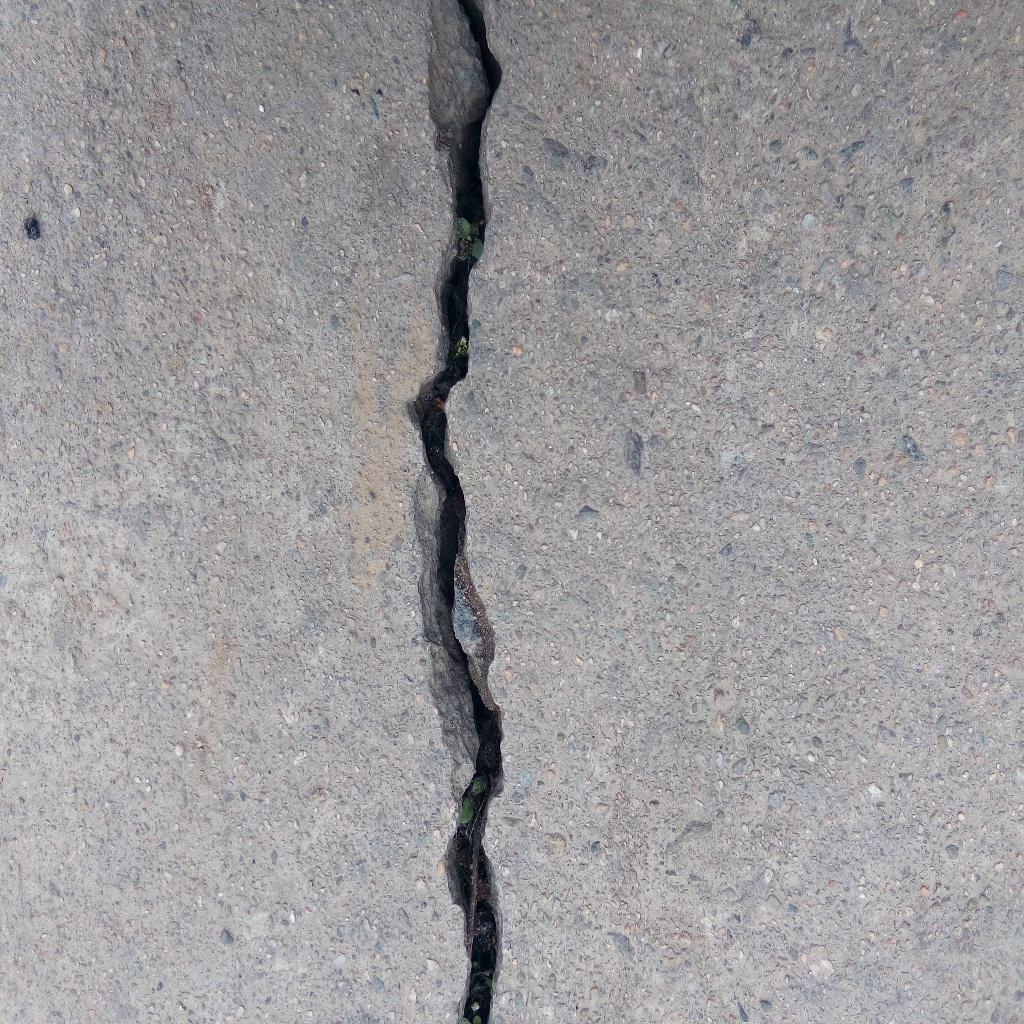Crack: (404, 1, 507, 1024)
